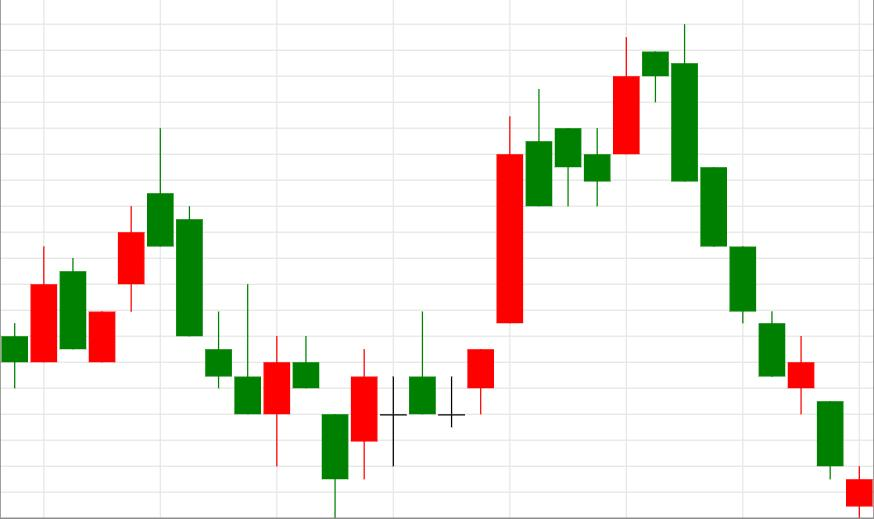three_black_crows_fall: (584, 21, 755, 323)
